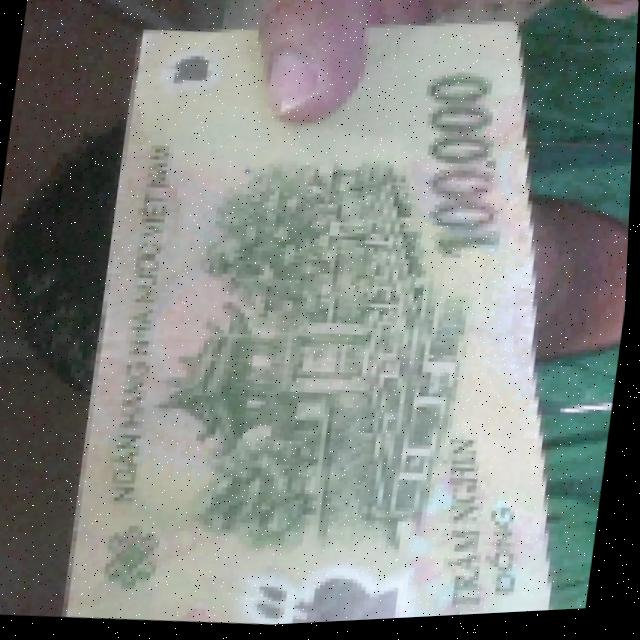100 000 VND: (57, 0, 640, 637)
